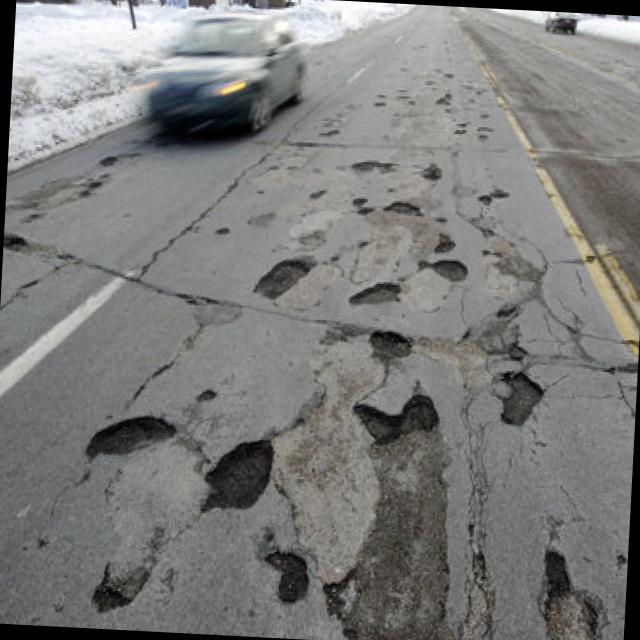Pothole: (198, 433, 282, 522), (528, 545, 606, 640), (350, 382, 442, 455), (84, 410, 184, 472), (259, 542, 317, 608), (498, 366, 550, 431), (247, 254, 314, 302), (91, 564, 140, 612), (370, 326, 414, 366), (353, 280, 400, 307), (428, 256, 471, 284), (352, 154, 394, 182), (387, 198, 428, 224), (4, 227, 34, 258), (432, 228, 457, 259), (478, 185, 503, 208), (497, 300, 517, 324), (85, 175, 104, 198), (100, 148, 118, 172), (307, 182, 328, 200), (424, 162, 442, 181), (349, 195, 374, 208), (358, 204, 376, 218), (216, 225, 230, 239)
